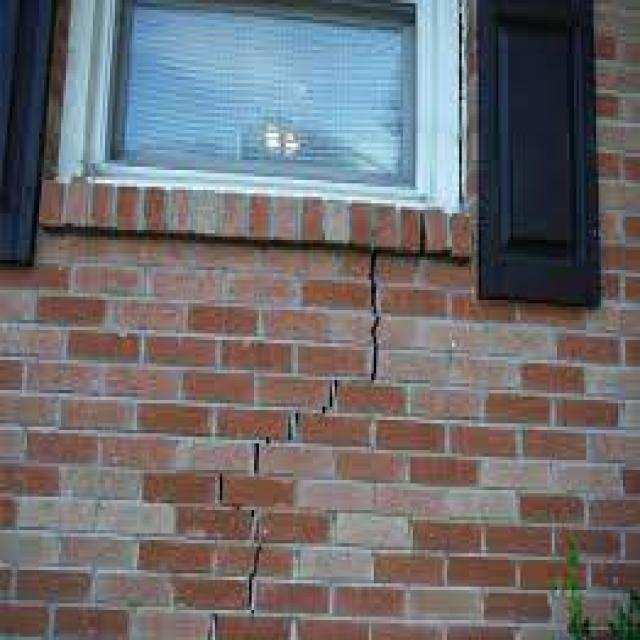Crack: (205, 206, 425, 636)
